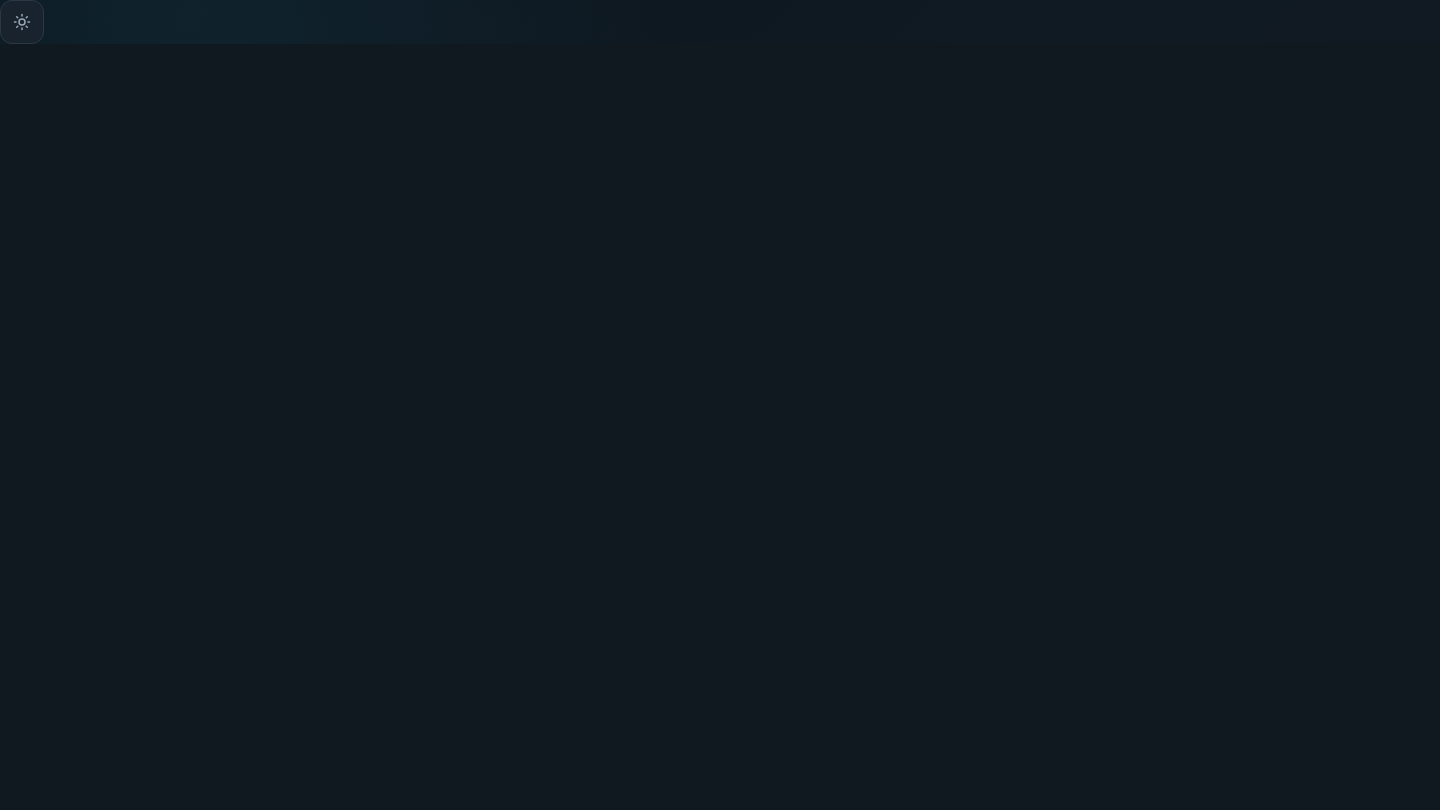
Test case: theme menu › uses centralized Odia appearance labels
Click the heading named "ଦେଖାଯିବା ଶୈଳୀ ବଦଳାନ୍ତୁ". click: click(22, 22)
box: x1=0 y1=0 x2=44 y2=44
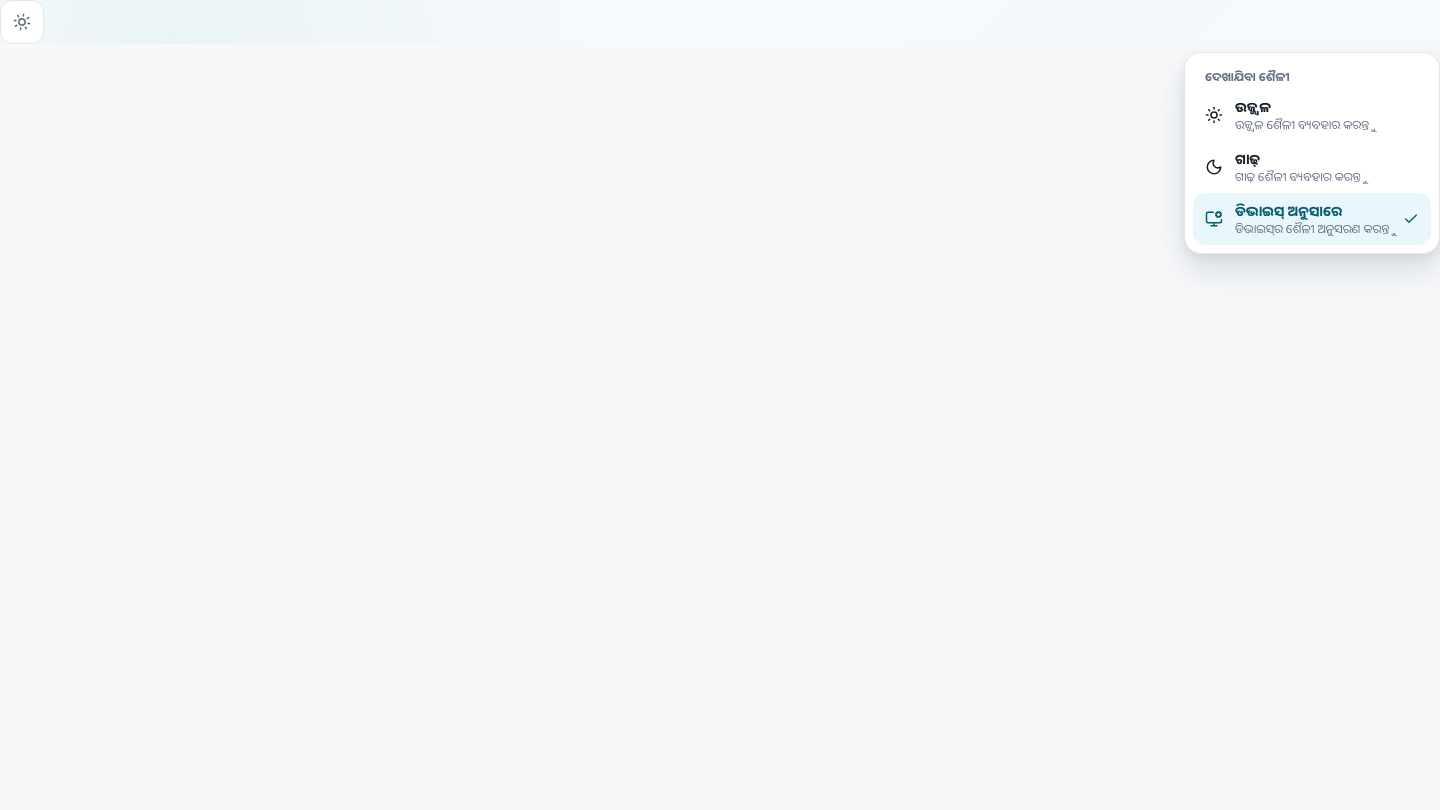
Now the menu item "ଗାଢ଼ ଗାଢ଼ ଶୈଳୀ ବ୍ୟବହାର କରନ୍ତୁ" is shown, box x1=1193 y1=141 x2=1431 y2=193
Now the menu item "ଡିଭାଇସ୍ ଅନୁସାରେ ଡିଭାଇସ୍‌ର ଶୈଳୀ ଅନୁସରଣ କରନ୍ତୁ" is shown, box x1=1193 y1=193 x2=1431 y2=245
